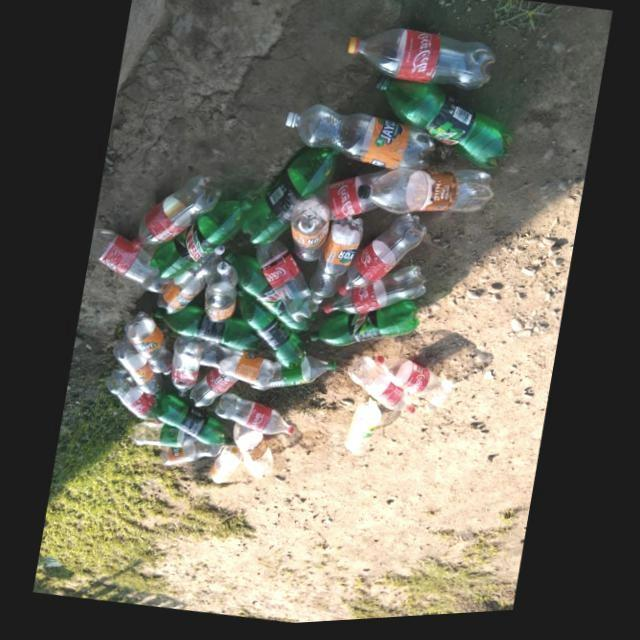plastic_bottle: (374, 80, 513, 174), (284, 107, 436, 175), (346, 32, 495, 95), (239, 151, 336, 247), (148, 199, 252, 281), (337, 217, 426, 299), (131, 176, 221, 249), (356, 172, 493, 218), (238, 286, 304, 371), (255, 243, 316, 326), (309, 305, 419, 350), (154, 307, 260, 353), (308, 220, 364, 307), (323, 272, 425, 318), (157, 248, 224, 315), (90, 230, 159, 294), (184, 342, 277, 389), (151, 395, 232, 447), (374, 360, 454, 411), (346, 359, 415, 417), (213, 394, 295, 439), (123, 312, 171, 377), (249, 358, 335, 393), (112, 337, 163, 396), (289, 199, 330, 265), (104, 370, 155, 420), (203, 257, 238, 324), (232, 425, 272, 480), (188, 369, 238, 409), (128, 422, 196, 450), (170, 339, 200, 399), (159, 443, 222, 466)
